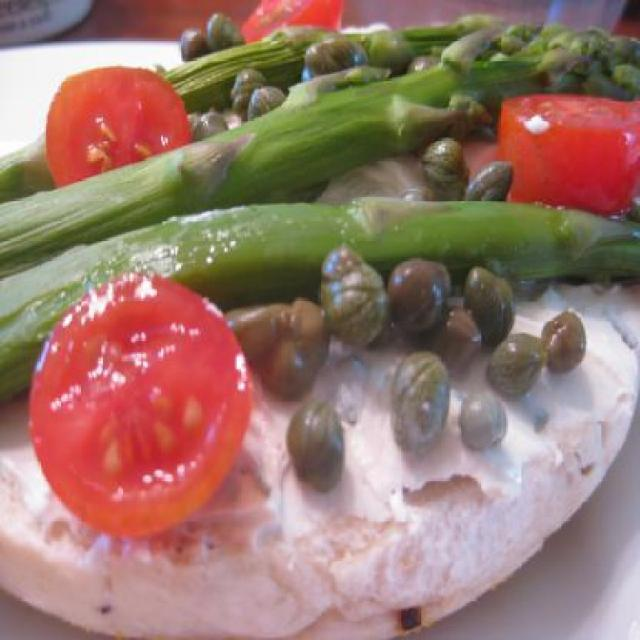Tomato: (17, 265, 260, 541), (495, 93, 640, 221), (44, 65, 193, 188), (242, 0, 342, 43)
